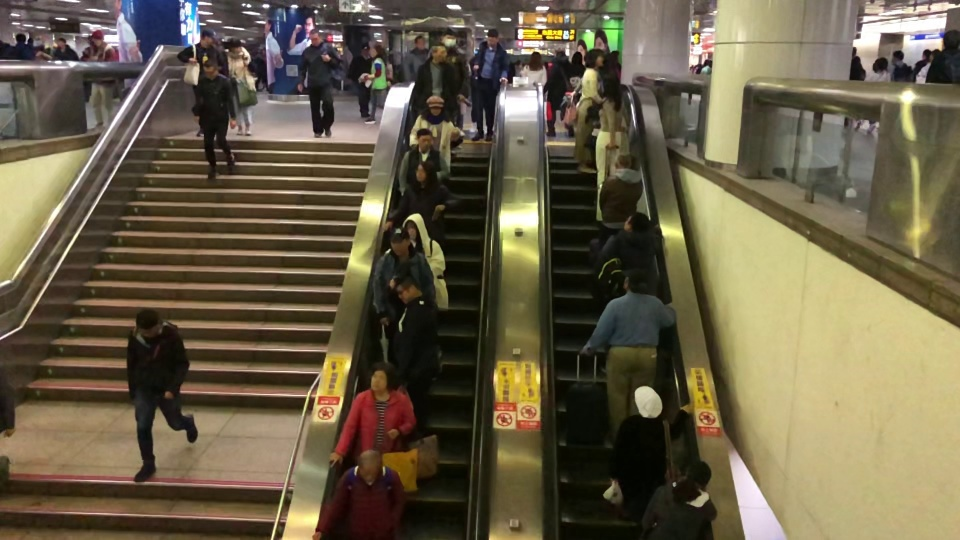person_head: (356, 449, 382, 480), (368, 361, 395, 389), (685, 460, 713, 487), (393, 277, 418, 300), (136, 310, 159, 334), (623, 271, 648, 293), (623, 211, 650, 231), (639, 394, 662, 417), (390, 230, 410, 254), (602, 73, 621, 97), (415, 160, 435, 182), (415, 127, 433, 149), (585, 48, 603, 66), (202, 58, 219, 77), (943, 29, 959, 48), (613, 153, 633, 168), (405, 219, 420, 238), (431, 44, 447, 60), (200, 30, 215, 45), (228, 36, 242, 52), (442, 31, 456, 47), (486, 28, 499, 45), (428, 99, 442, 114), (308, 28, 321, 43), (872, 57, 887, 70), (571, 50, 583, 63), (891, 50, 903, 63), (370, 44, 382, 56), (530, 51, 542, 62), (414, 35, 424, 48), (92, 31, 102, 43), (15, 32, 26, 41), (555, 48, 566, 57), (57, 37, 66, 47), (921, 49, 930, 59), (851, 54, 859, 64), (361, 45, 369, 54), (707, 59, 711, 67)
person_vbox: (582, 271, 677, 437), (126, 310, 198, 484), (608, 394, 694, 520), (328, 361, 416, 467), (311, 449, 405, 540), (390, 277, 441, 399), (371, 231, 436, 325), (641, 460, 717, 540), (594, 210, 660, 298), (193, 59, 237, 184), (594, 73, 630, 223), (296, 28, 342, 137), (383, 160, 448, 233), (471, 28, 510, 143), (404, 219, 450, 310), (598, 152, 643, 245), (177, 31, 215, 136), (572, 48, 603, 174), (408, 99, 460, 173), (79, 31, 117, 128), (398, 128, 449, 195), (414, 45, 458, 118), (226, 36, 257, 135), (544, 48, 575, 138), (863, 56, 890, 134), (441, 32, 470, 101), (363, 45, 388, 124), (0, 367, 16, 485), (926, 29, 960, 83), (345, 45, 370, 117), (844, 54, 866, 130), (402, 35, 427, 81), (521, 51, 547, 86), (890, 49, 911, 81), (913, 48, 930, 86), (53, 37, 78, 60), (15, 32, 32, 59), (571, 50, 583, 84), (700, 58, 712, 74)
